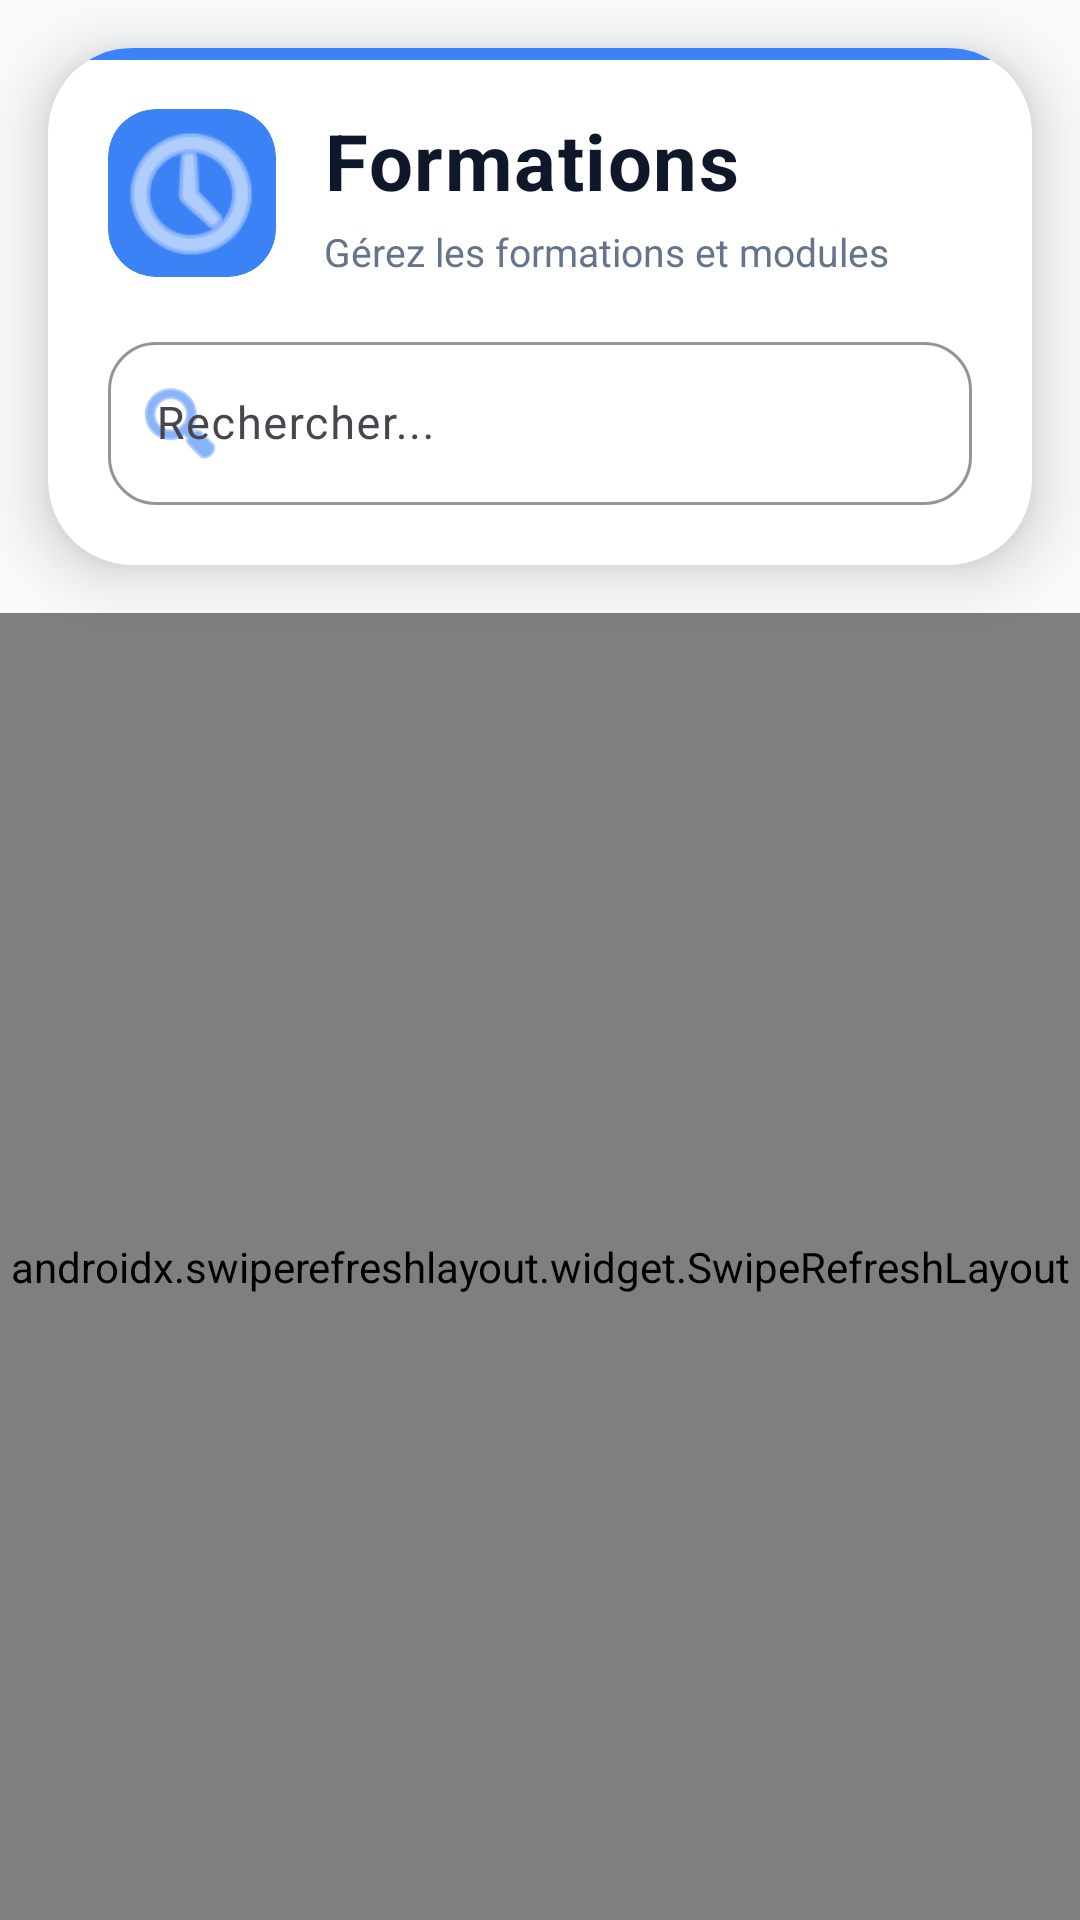

Icons on this 1080 × 1920 Android screen, each with the point to tap as (x,y):
recent history: (192,193)
